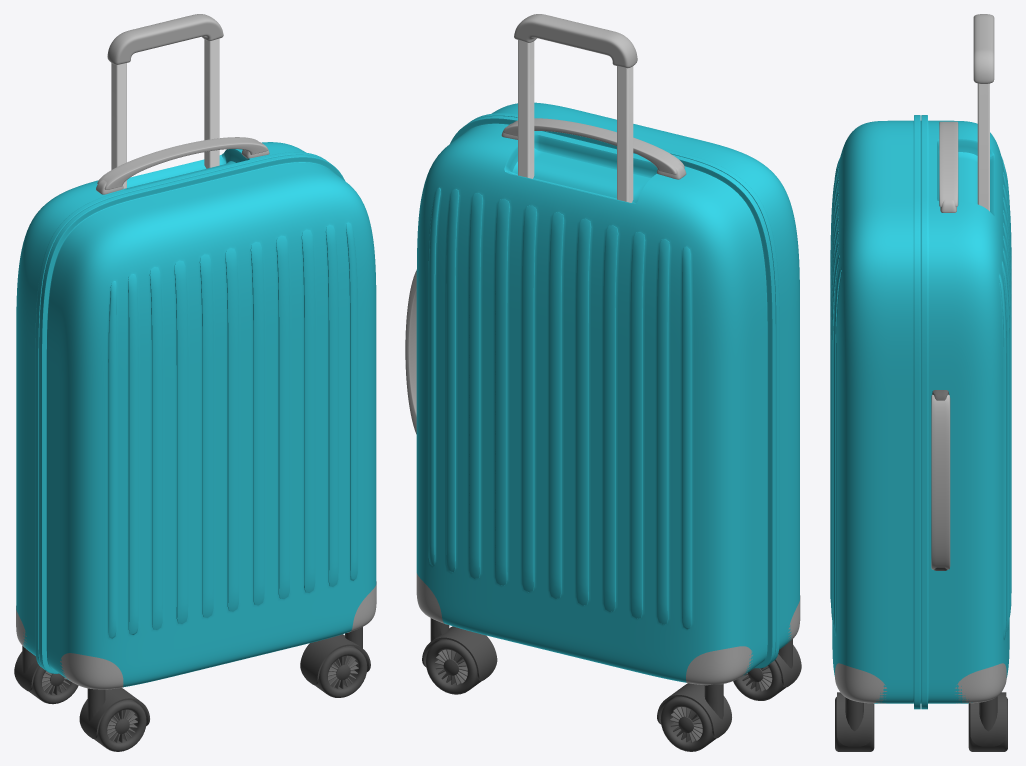
The model's file is suitcase.glb.
3 views of the same model, side by side, from view 1: azimuth 30°, elevation 25°; view 2: azimuth 150°, elevation 25°; view 3: azimuth 270°, elevation 25° (orthographic). The views are drawn at different scales.
Visible parts, largest first — view 1: FRONT_SHELL, REAR_SHELL, Sweep_2, Cube, Corners, Tube_9, Tube_3, Tube, Tube_2, Tube_4, Tube_7; view 2: REAR_SHELL, FRONT_SHELL, Sweep_2, Cube, Corners_2, Tube_9, Tube_5, Tube_7, Tube_10, Tube_6, Tube_8, Tube_3; view 3: FRONT_SHELL, REAR_SHELL, Tube_10, Tube_9, Sweep_2, Cube, Corners, Corners_2, Tube_6, Tube_2, Tube, Tube_5 (+2 smaller).
Boxes of the visible parts, x1,y1,x2,y2 form: FRONT_SHELL: [39, 154, 376, 687]; REAR_SHELL: [16, 142, 327, 668]; Sweep_2: [111, 38, 219, 188]; Cube: [107, 14, 223, 64]; Corners: [60, 581, 376, 689]; Tube_9: [97, 137, 267, 189]; Tube_3: [94, 700, 146, 751]; Tube: [315, 646, 367, 697]; Tube_2: [300, 634, 369, 685]; Tube_4: [79, 688, 148, 738]; Tube_7: [29, 666, 78, 704]; REAR_SHELL: [416, 116, 775, 682]; FRONT_SHELL: [469, 102, 799, 663]; Sweep_2: [518, 40, 633, 202]; Cube: [514, 14, 637, 68]; Corners_2: [416, 573, 752, 685]; Tube_9: [503, 118, 684, 174]; Tube_5: [426, 639, 481, 694]; Tube_7: [660, 696, 716, 751]; Tube_10: [405, 270, 416, 434]; Tube_6: [423, 626, 497, 680]; Tube_8: [658, 683, 731, 738]; Tube_3: [733, 660, 785, 700]; FRONT_SHELL: [830, 115, 920, 709]; REAR_SHELL: [921, 115, 1011, 709]; Tube_10: [931, 394, 950, 569]; Tube_9: [939, 121, 958, 206]; Sweep_2: [977, 83, 989, 211]; Cube: [973, 14, 994, 83]; Corners: [835, 663, 886, 703]; Corners_2: [955, 663, 1006, 703]; Tube_6: [970, 692, 1006, 746]; Tube_2: [837, 692, 872, 746]; Tube: [835, 697, 874, 751]; Tube_5: [968, 697, 1007, 751].
Size of the model in its own units: 1.12 by 2.06 by 0.512.
